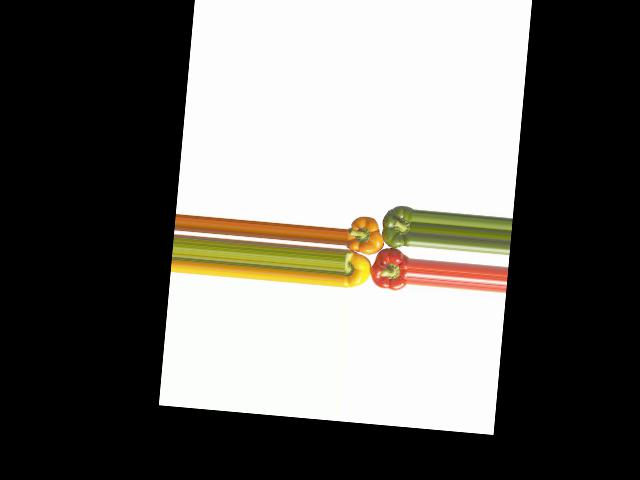bell_pepper: (341, 247, 374, 290)
